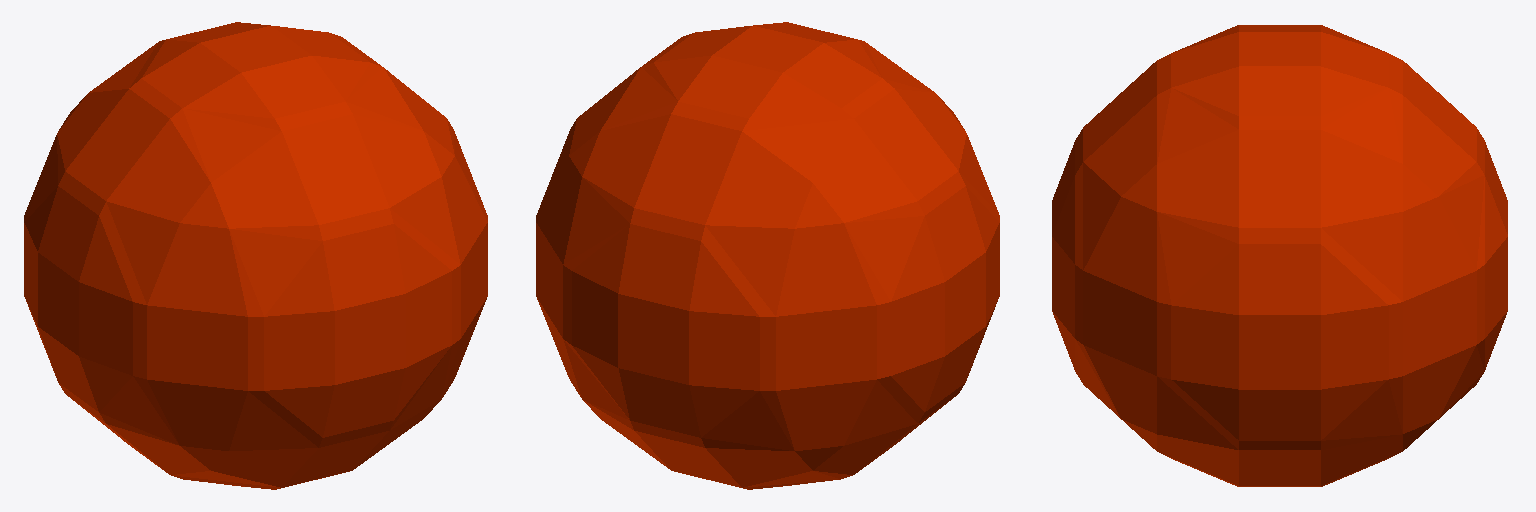
Rendered from Light_Tunnel.obj.
The picture shows the model from 3 angles: view 1: azimuth 30°, elevation 25°; view 2: azimuth 150°, elevation 25°; view 3: azimuth 270°, elevation 25°; orthographic projection.
Parts seen in each view (by area): view 1: Mball; view 2: Mball; view 3: Mball.
Part boxes in pixels (left/top/right/bottom): Mball: left=24, top=22, right=487, bottom=489; Mball: left=536, top=22, right=999, bottom=489; Mball: left=1052, top=25, right=1507, bottom=486.
Size of the model in its own units: 2.23 by 2.23 by 2.23.